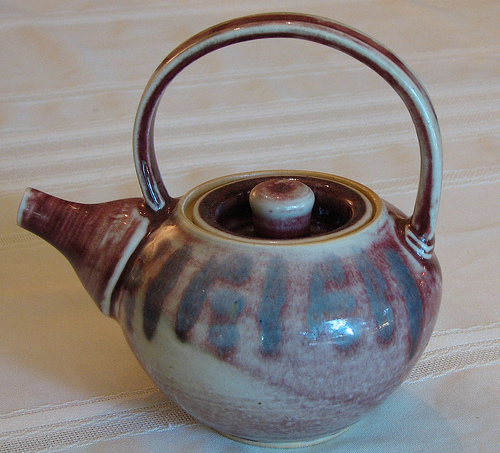teapot: (10, 6, 473, 453)
